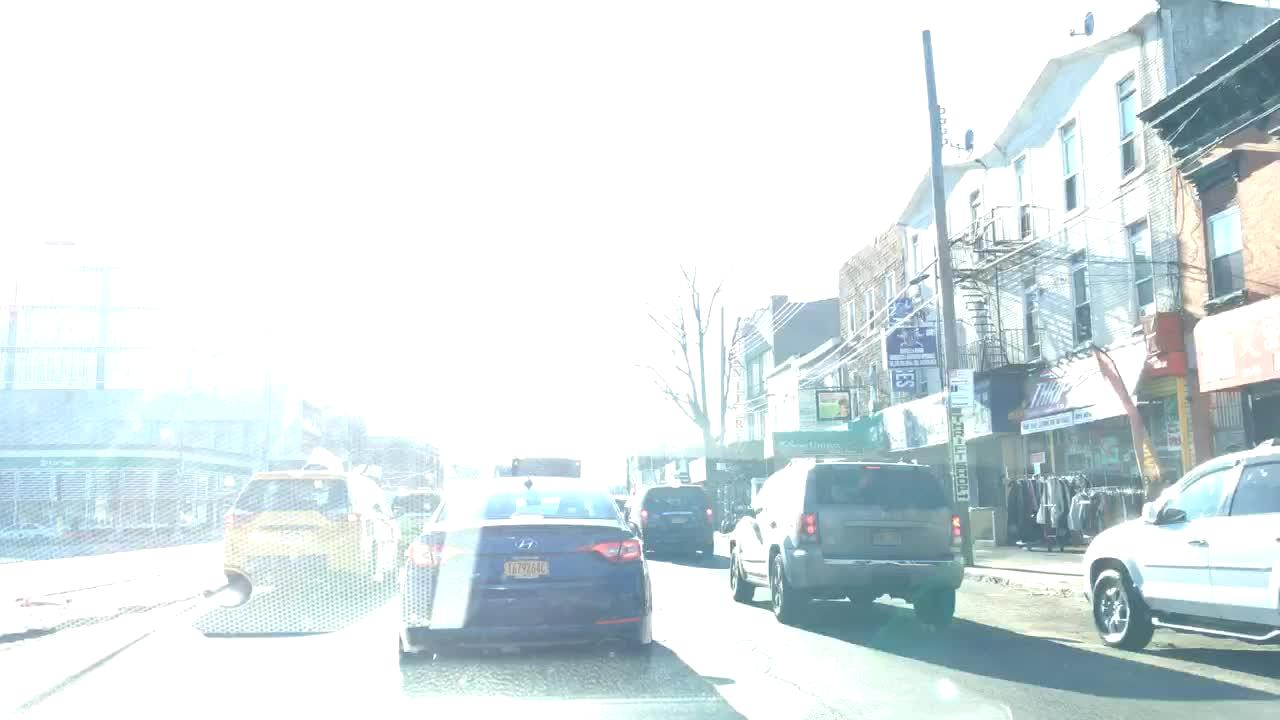Hyundai: (508, 533, 551, 562)
